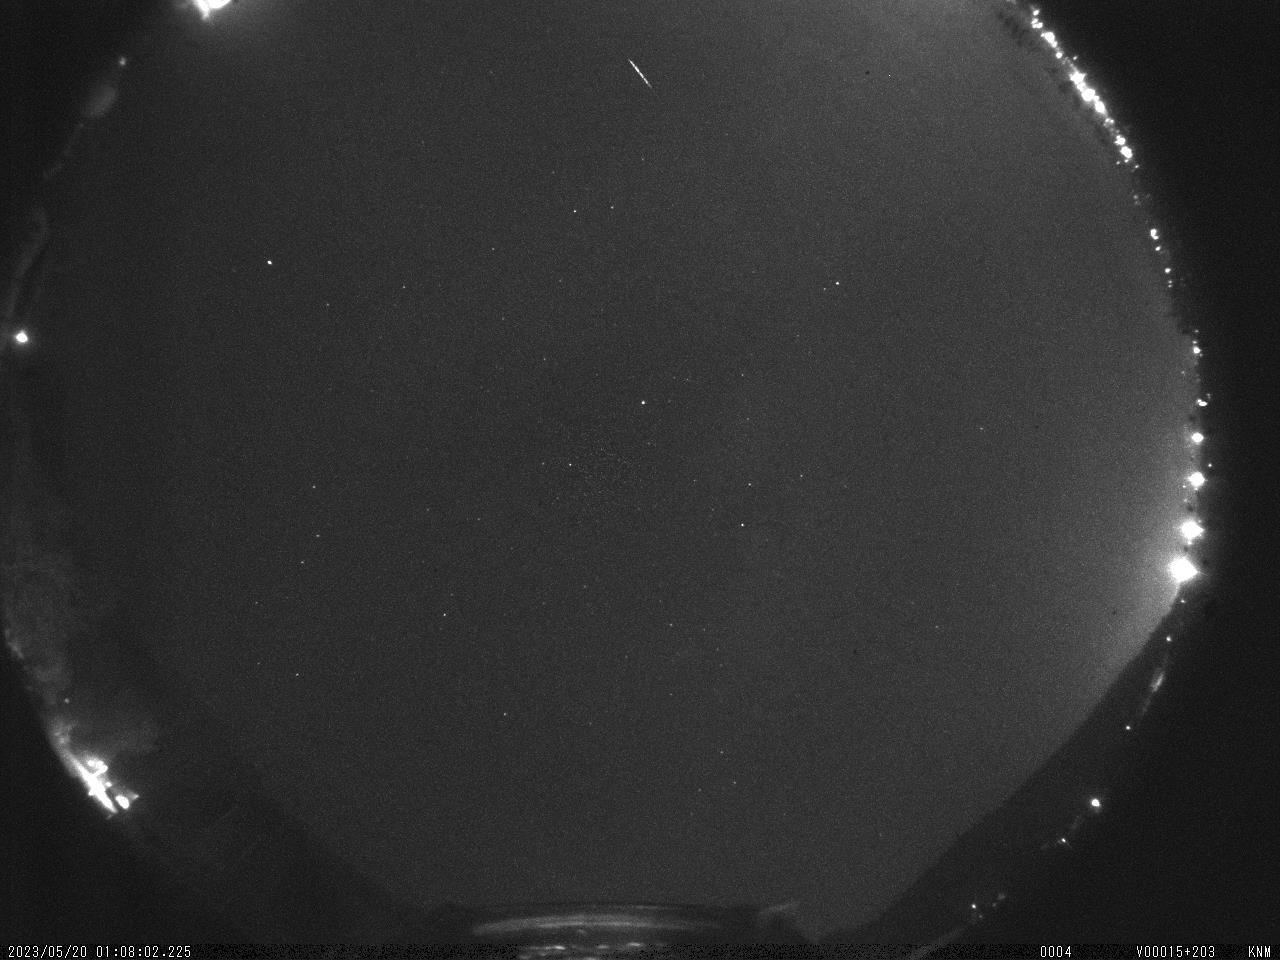Meteor: (625, 54, 655, 91)
